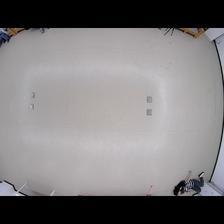fall: (171, 169, 207, 195)
